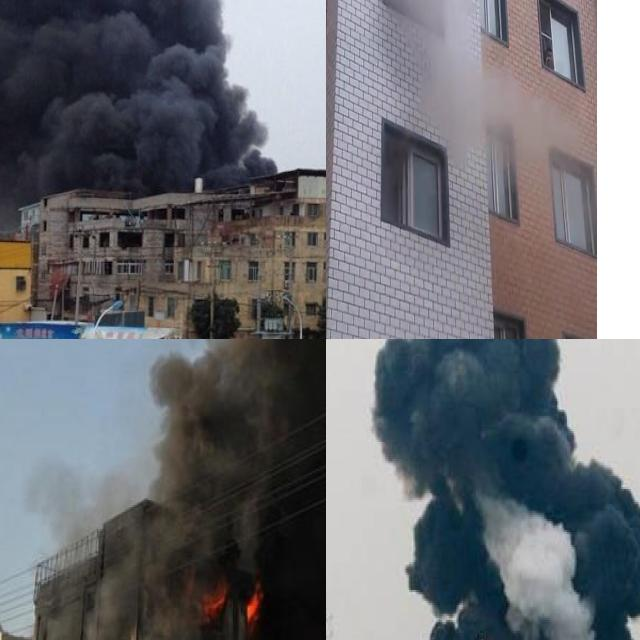fire: (202, 579, 229, 611), (243, 584, 262, 618)
smoke: (372, 339, 640, 640), (0, 0, 273, 219), (381, 0, 579, 167), (144, 339, 285, 502), (90, 539, 135, 640)
